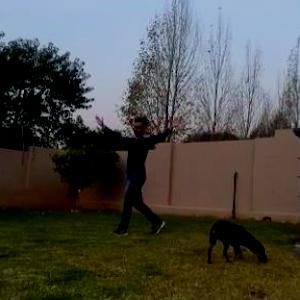takeoff: (81, 110, 193, 232)
